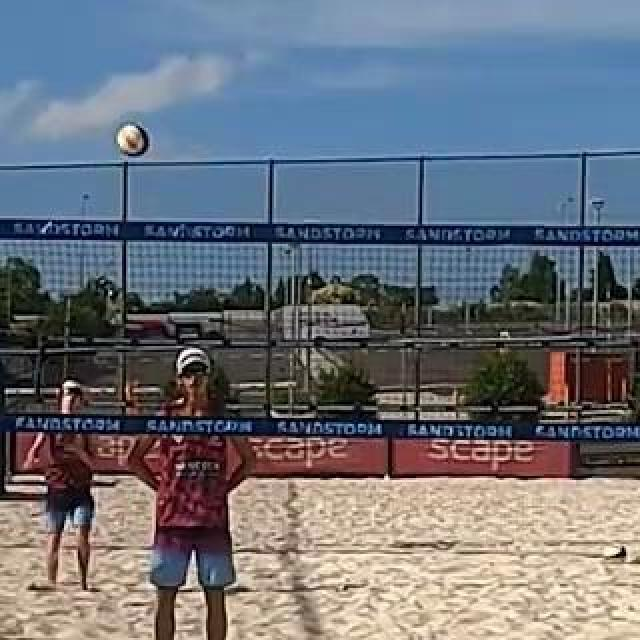volleyball: (117, 123, 151, 155), (604, 542, 626, 564)
